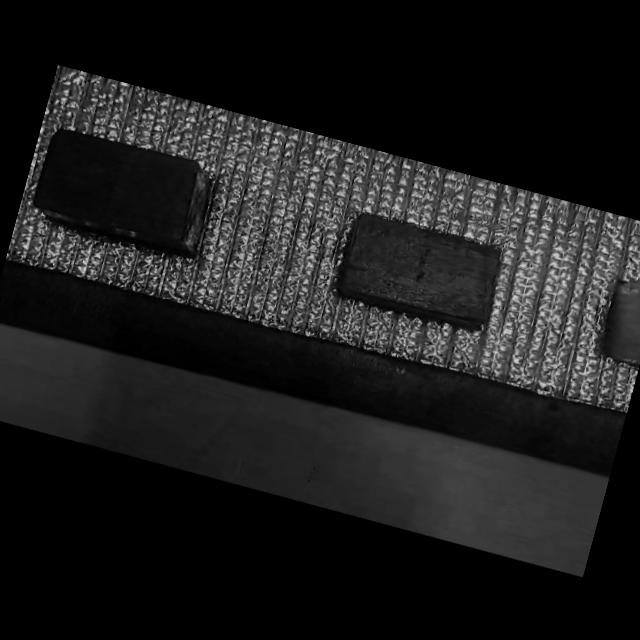bcube: (332, 200, 526, 342)
rcube: (34, 123, 232, 272)
